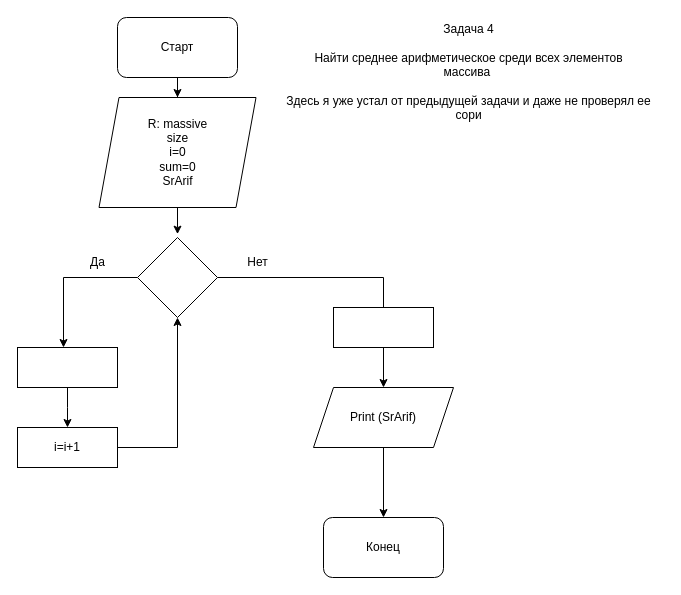
Some shapes in this 681 by 595 pixel diagram are drawn without their labels. The shapes that lost their labels are listed below. From the top down, each one's centre as x and y in pixels, then its label:
pixel 177 277: i<size
pixel 383 327: SrArif=sum/size
pixel 67 367: sum=sum+R[i]
